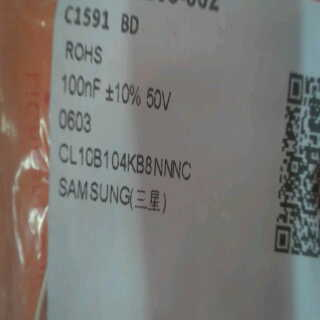100nF: (56, 73, 113, 100)
